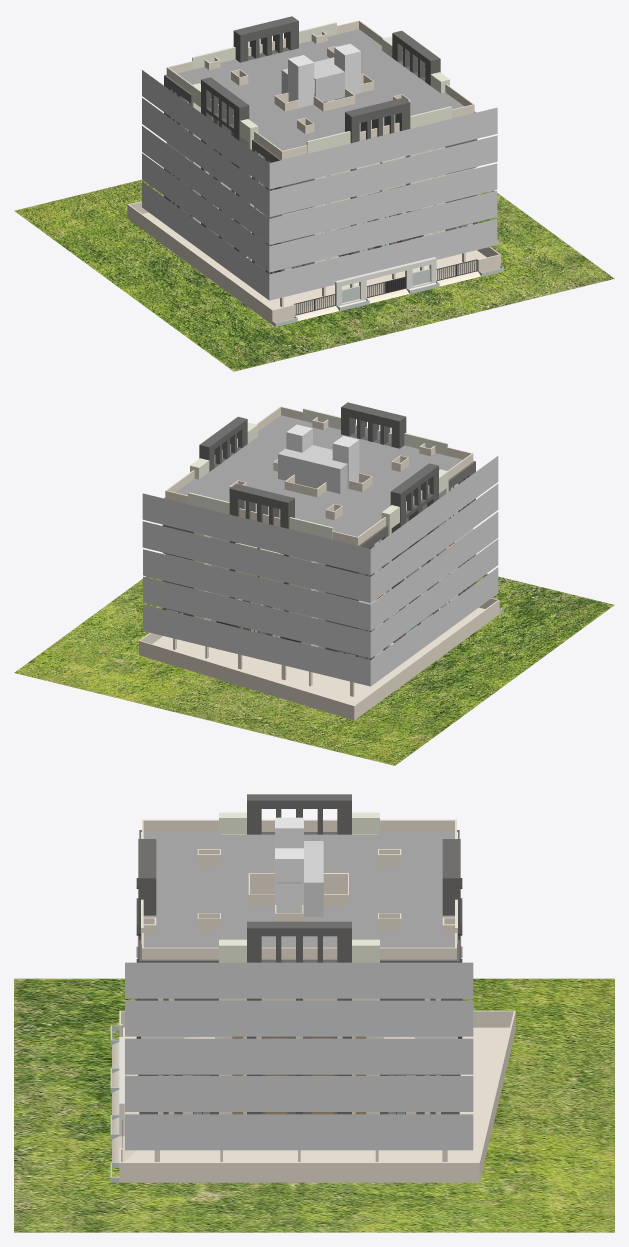
3 renders of one model, top to bottom at view 1: azimuth 30°, elevation 25°; view 2: azimuth 150°, elevation 25°; view 3: azimuth 270°, elevation 25°, orthographic. The views are drawn at different scales.
Visible parts, largest first — view 1: Plane, WALL.01, slab.01, Box_Floor3, Box_Floor4, Box_Floor2, Box_Floor5, Box_Floor1, AL00E2 Elevations.01, AL201 Concrete Structure.01, SLOP.01, COLOUR.01 (+4 smaller); view 2: Plane, WALL.01, slab.01, Box_Floor4, Box_Floor5, Box_Floor3, Box_Floor1, Box_Floor2, AL00E2 Elevations.01, AL201 Concrete Structure.01, stair.01, SLOP.01 (+1 smaller); view 3: Plane, WALL.01, slab.01, Box_Floor1, Box_Floor3, Box_Floor4, Box_Floor5, Box_Floor2, AL00E2 Elevations.01, AL201 Concrete Structure.01, SLOP.01, FURN-BACK.01 (+2 smaller).
Boxes of the visible parts, box(x1,y1,x2,y2) form: Plane: box(14, 179, 614, 371); WALL.01: box(127, 20, 500, 324); slab.01: box(177, 29, 464, 257); Box_Floor3: box(142, 126, 497, 245); Box_Floor4: box(142, 98, 497, 217); Box_Floor2: box(142, 153, 497, 272); Box_Floor5: box(142, 70, 497, 189); Box_Floor1: box(142, 181, 497, 300); AL00E2 Elevations.01: box(201, 16, 440, 256); AL201 Concrete Structure.01: box(191, 22, 451, 262); SLOP.01: box(288, 43, 360, 108); COLOUR.01: box(294, 209, 477, 315); Plane: box(14, 573, 614, 765); WALL.01: box(139, 406, 499, 720); slab.01: box(175, 415, 462, 642); Box_Floor4: box(142, 484, 498, 602); Box_Floor5: box(142, 456, 498, 575); Box_Floor3: box(143, 512, 498, 630); Box_Floor1: box(143, 567, 498, 686); Box_Floor2: box(143, 539, 498, 658); AL00E2 Elevations.01: box(199, 402, 438, 642); AL201 Concrete Structure.01: box(188, 408, 448, 648); stair.01: box(278, 445, 347, 493); SLOP.01: box(204, 424, 359, 647); Plane: box(14, 978, 614, 1232); WALL.01: box(112, 819, 515, 1182); slab.01: box(143, 831, 454, 947); Box_Floor1: box(125, 1114, 473, 1150); Box_Floor3: box(125, 1038, 473, 1074); Box_Floor4: box(125, 1000, 473, 1036); Box_Floor5: box(125, 962, 473, 998); Box_Floor2: box(125, 1076, 473, 1111); AL00E2 Elevations.01: box(138, 794, 460, 1114); AL201 Concrete Structure.01: box(141, 812, 457, 1114); SLOP.01: box(275, 817, 303, 915); FURN-BACK.01: box(139, 830, 459, 1114).
Bounding box in the file's own units: 2 × 0.984 × 2.
Materials: 23 (1 with a texture image).
